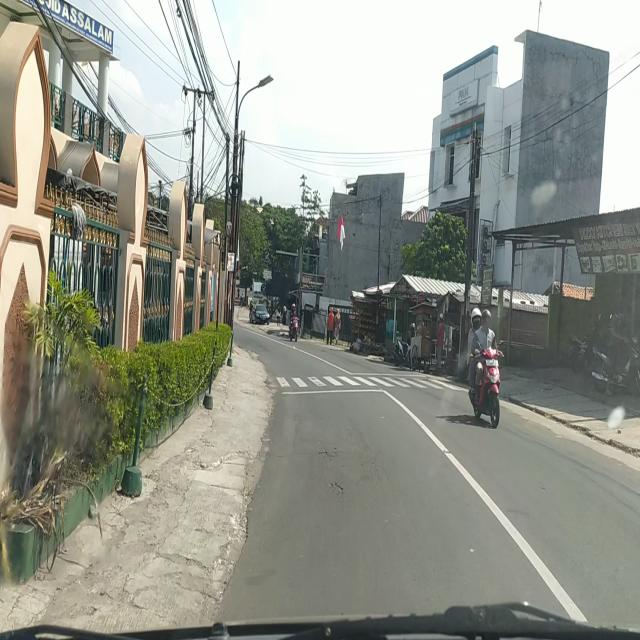Drain Hole: (318, 445, 341, 463), (330, 475, 343, 500)
